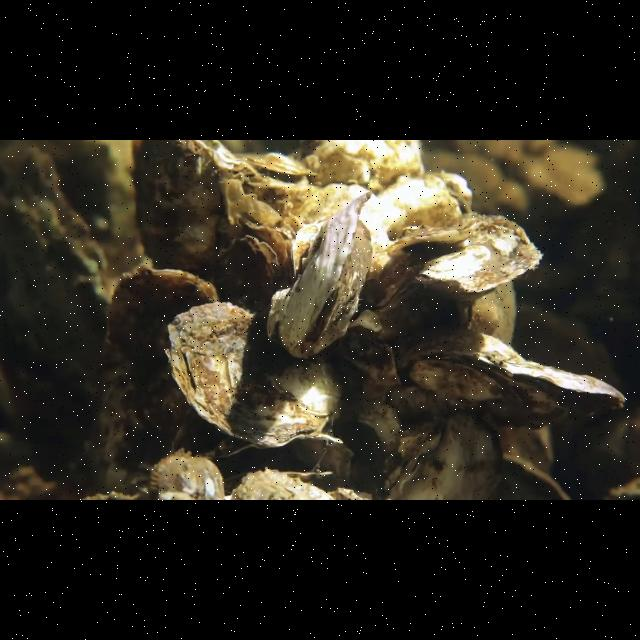Oyster-Closed: (158, 299, 347, 451), (132, 140, 298, 310), (264, 195, 386, 360), (102, 261, 225, 369), (415, 219, 544, 302), (386, 412, 508, 499)
Oyster-Open: (408, 341, 627, 432), (214, 234, 283, 312)
